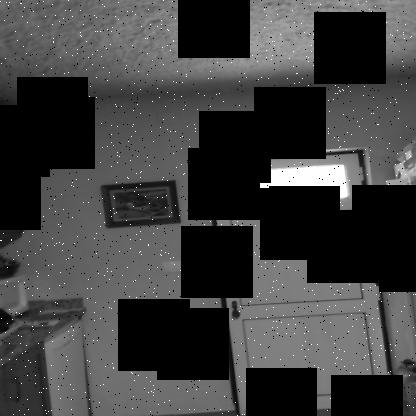Porte: (202, 145, 403, 415)
